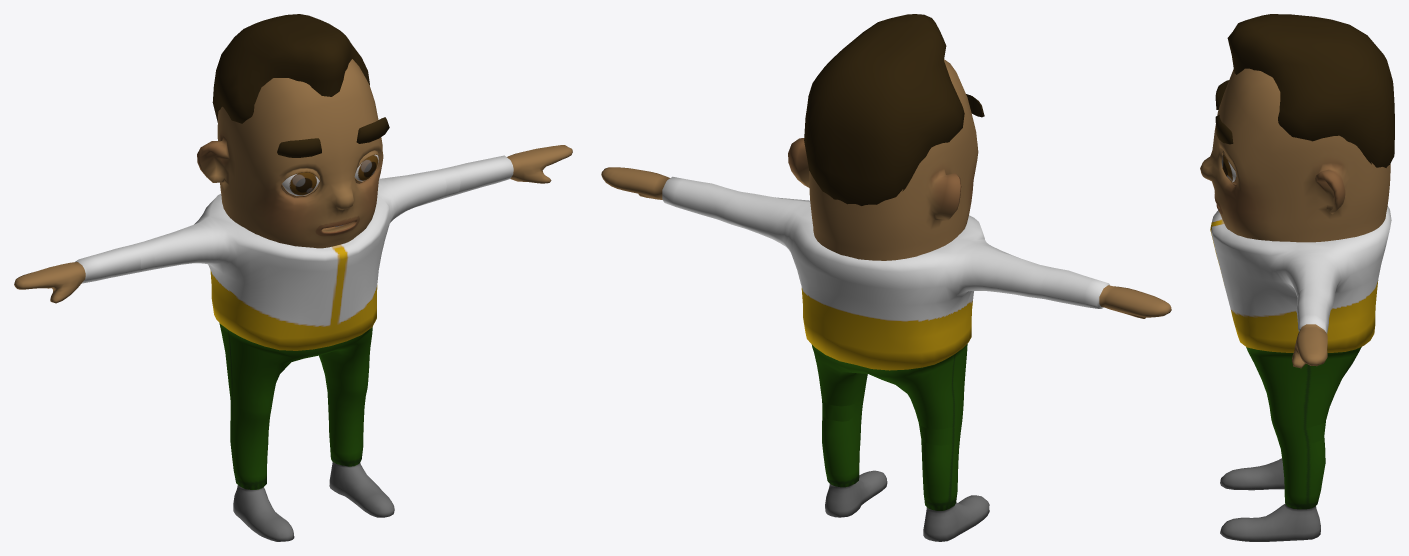
The model's file is Rafi_Mesh_UVed 1.FBX.
The picture shows the model from 3 angles, left to right: view 1: azimuth 30°, elevation 25°; view 2: azimuth 150°, elevation 25°; view 3: azimuth 270°, elevation 25°; orthographic projection. The views are drawn at different scales.
Parts seen in each view (by area): view 1: Object004; view 2: Object004; view 3: Object004.
Part boxes in pixels (<box>): Object004: <box>14,14,572,541</box>; Object004: <box>601,14,1171,541</box>; Object004: <box>1200,14,1394,541</box>.
Size of the model in its own units: 113 by 93.07 by 33.62.
